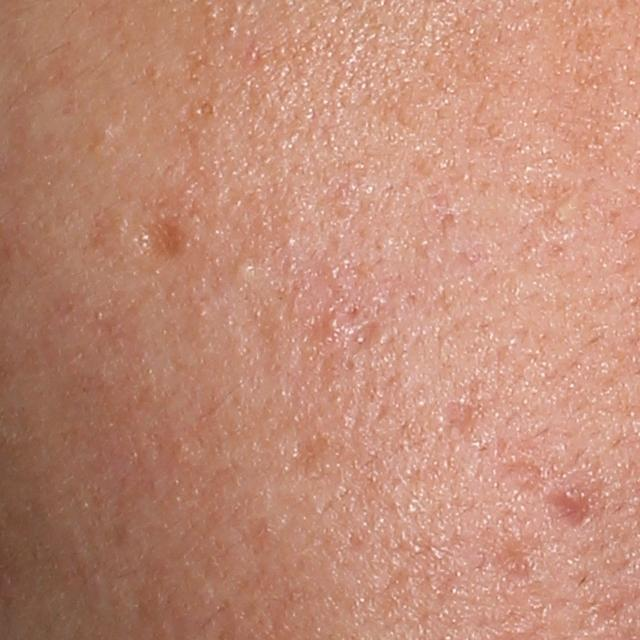atrophic_scar: (495, 455, 554, 504), (478, 541, 531, 587), (283, 431, 334, 478), (442, 400, 482, 440), (347, 320, 383, 356)
comedo: (228, 254, 258, 285)
other: (132, 210, 191, 265)
